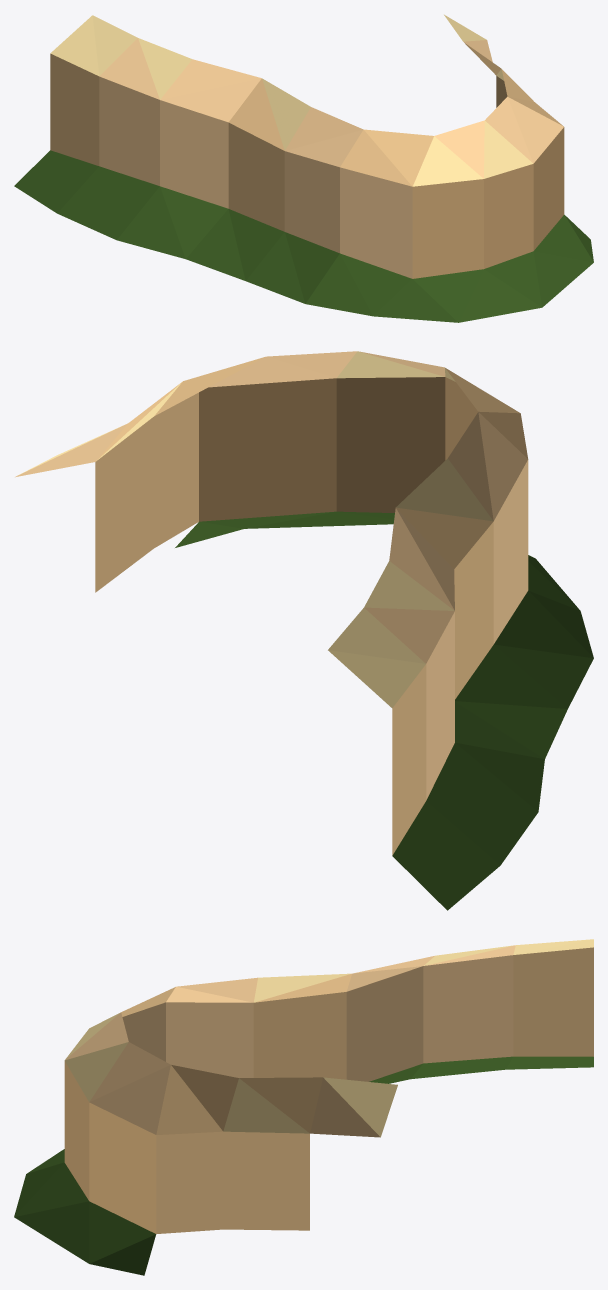
The picture shows the model from 3 angles, top to bottom: view 1: azimuth 30°, elevation 25°; view 2: azimuth 150°, elevation 25°; view 3: azimuth 270°, elevation 25°; orthographic projection. The views are drawn at different scales.
Visible parts, largest first — view 1: O2C2EE; view 2: O2C2EE; view 3: O2C2EE.
Boxes of the visible parts, <box> form: O2C2EE: <box>14,14,593,322</box>; O2C2EE: <box>15,351,593,910</box>; O2C2EE: <box>14,939,593,1275</box>.
Size of the model in its own units: 62.66 by 24 by 73.54.
